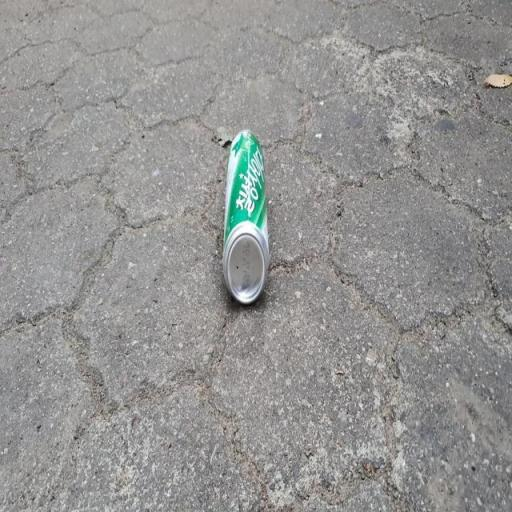metal: (206, 102, 284, 336)
